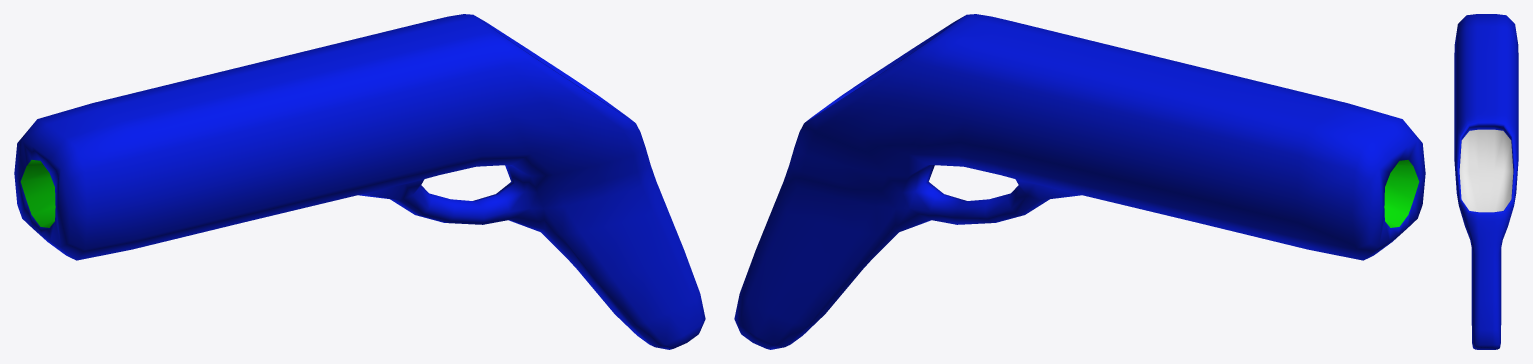
Rendered from Gun2_1.fbx.
The picture shows the model from 3 angles, left to right: view 1: azimuth 30°, elevation 25°; view 2: azimuth 150°, elevation 25°; view 3: azimuth 270°, elevation 25°; orthographic projection. The views are drawn at different scales.
Visible parts, largest first — view 1: Cube; view 2: Cube; view 3: Cube.
Part boxes in pixels (x1,y1,x2,y2): Cube: (14, 14, 705, 349); Cube: (734, 14, 1425, 349); Cube: (1454, 14, 1518, 349).
Bounding box in the file's own units: 560 × 294 × 92.94.
